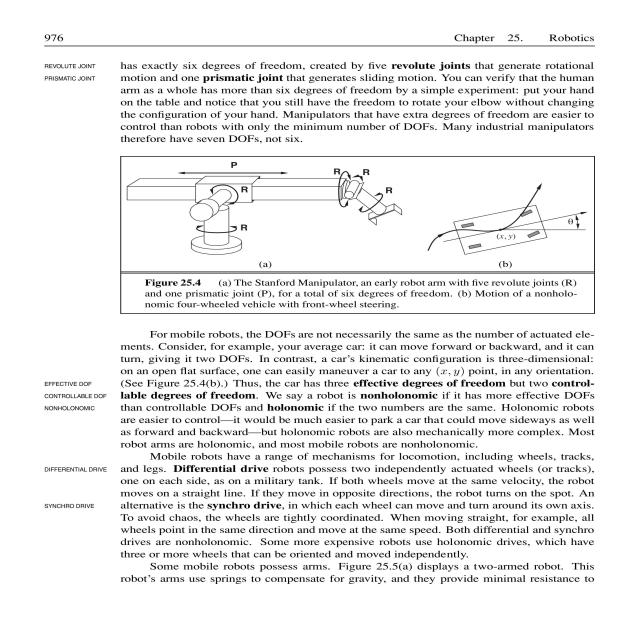diagram: (118, 155, 604, 316)
